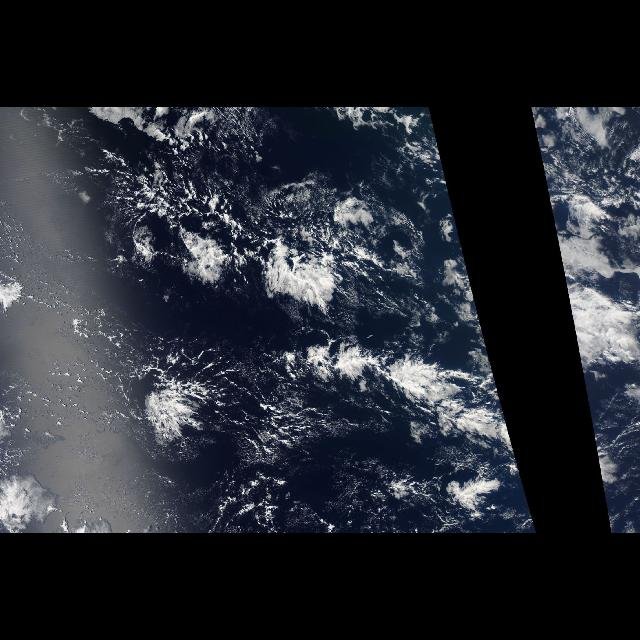Flower: (140, 160, 532, 512), (540, 160, 558, 246)
Sugar: (282, 340, 524, 486), (576, 340, 620, 486)
